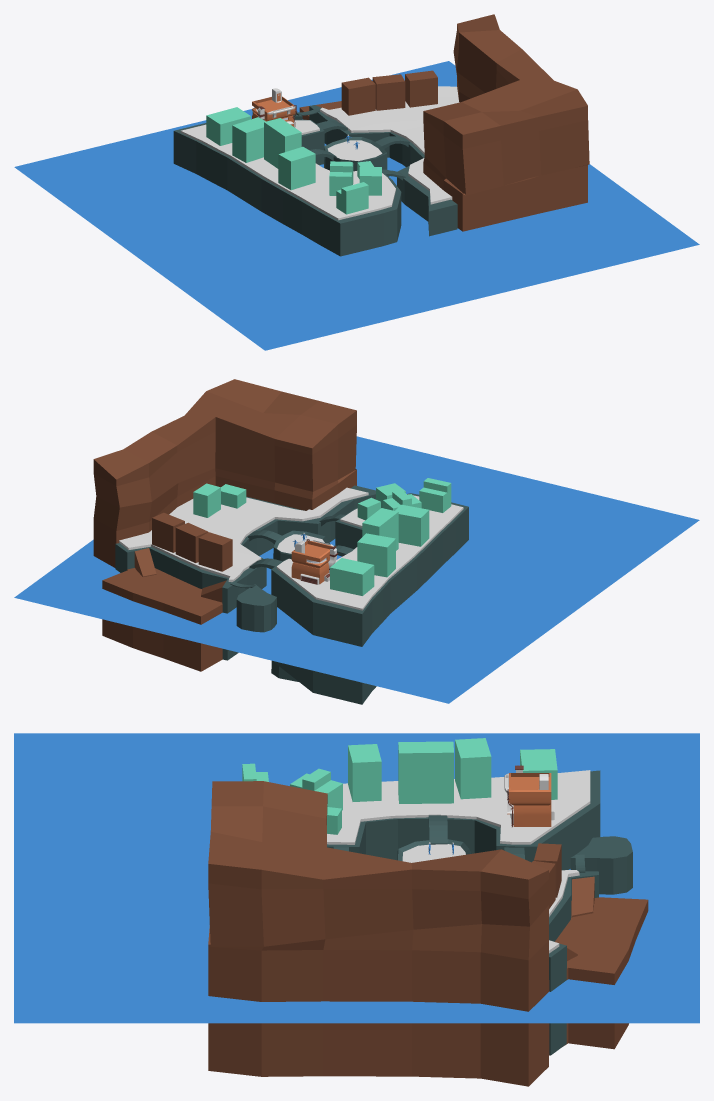
The model's file is TestMap.glb.
3 views of the same model, one above another, from view 1: azimuth 30°, elevation 25°; view 2: azimuth 150°, elevation 25°; view 3: azimuth 270°, elevation 25° (orthographic). The views are drawn at different scales.
Parts seen in each view (by area): view 1: mesh_testmap; view 2: mesh_testmap; view 3: mesh_testmap.
Part boxes in pixels (bbox=[...]): mesh_testmap: bbox=[14, 14, 699, 350]; mesh_testmap: bbox=[14, 379, 699, 704]; mesh_testmap: bbox=[14, 733, 699, 1086].
Size of what is drawn, in the model's own units: 88.62 by 37.6 by 88.62.
